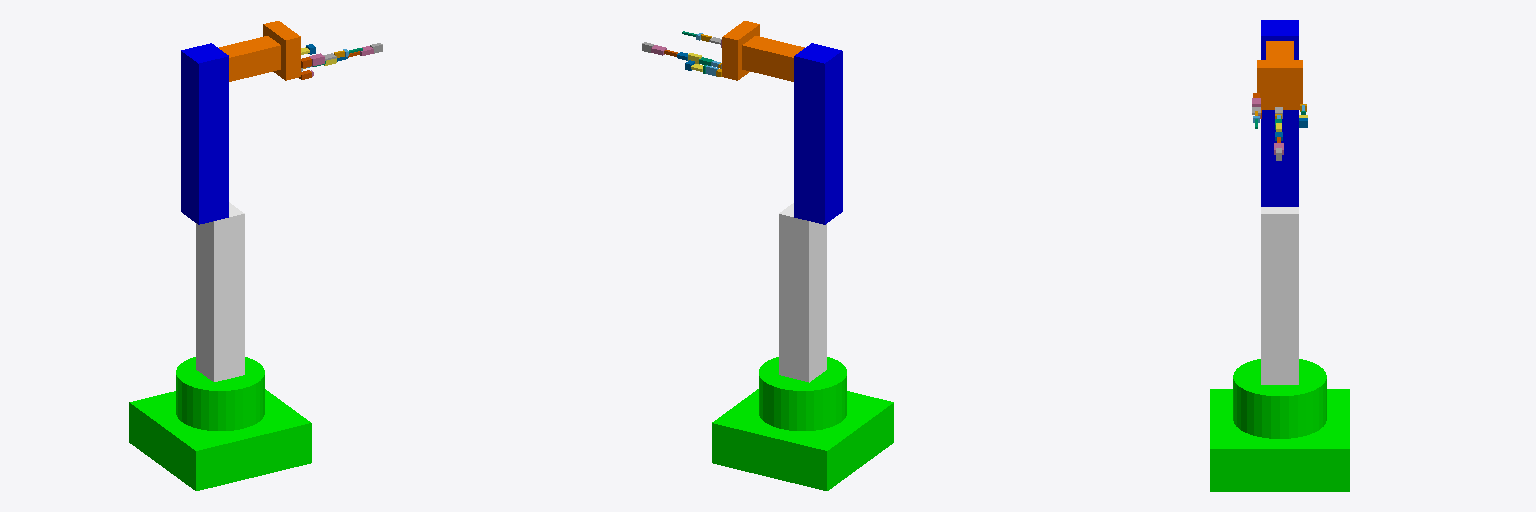
The robot description file, URDF, robot "robot":
<?xml version='1.0' encoding='utf-8'?>
<robot name="robot">
  <link name="base_link">
    <visual>
      <origin xyz="0 0 0.125" rpy="0 0 0" />
      <geometry>
        <box size="0.75 0.75 0.25" />
      </geometry>
      <material name="green" />
    </visual>
    <visual>
      <origin xyz="0 0 0.375" rpy="0 0 0" />
      <geometry>
        <cylinder length="0.25" radius="0.25" />
      </geometry>
      <material name="green">
        <color rgba="0 1 0 1" />
      </material>
    </visual>
    <collision>
      <geometry>
        <box size="0.75 0.75 0.5" />
      </geometry>
    </collision>
    <inertial>
      <mass value="0.5" />
      <inertia ixx="0.034" ixy="0.0" ixz="0.0" iyy="0.034" iyz="0.0" izz="0.034" />
    </inertial>
  </link>
  <link name="support_link">
    <visual>
      <origin xyz="0 0 0.5" rpy="0 0 0" />
      <geometry>
        <box size="0.2 0.2 1" />
      </geometry>
      <material name="white">
        <color rgba="1 1 1 1" />
      </material>
    </visual>
    <collision>
      <geometry>
        <box size="0.2 0.2 1" />
      </geometry>
    </collision>
    <inertial>
      <mass value="0.1" />
      <inertia ixx="0.01" ixy="0.0" ixz="0.0" iyy="0.01" iyz="0.0" izz="0.01" />
    </inertial>
  </link>
  <joint name="support_joint" type="continuous">
    <origin xyz="0 0 0.5" rpy="0 0 0" />
    <parent link="base_link" />
    <child link="support_link" />
    <axis xyz="0 0 1" />
  </joint>
  <link name="arm_link">
    <visual>
      <origin xyz="0 0 0.5" rpy="0 0 0" />
      <geometry>
        <box size="0.2 0.2 1" />
      </geometry>
      <material name="blue">
        <color rgba="0 0 1 1" />
      </material>
    </visual>
    <collision>
      <geometry>
        <box size="0.2 0.2 1" />
      </geometry>
    </collision>
    <inertial>
      <mass value="0.1" />
      <inertia ixx="0.01" ixy="0.0" ixz="0.0" iyy="0.01" iyz="0.0" izz="0.01" />
    </inertial>
  </link>
  <joint name="arm_joint" type="revolute">
    <origin xyz="-0.1 0 1" rpy="0 0 0" />
    <parent link="support_link" />
    <child link="arm_link" />
    <axis xyz="0 1 0" />
    <limit lower="-3.14" upper="3.14" effort="1.0" velocity="1.0" />
  </joint>
  <link name="wrist_link">
    <visual>
      <origin xyz="0 0 0.25" rpy="0 0 0" />
      <geometry>
        <box size="0.15 0.15 0.5" />
      </geometry>
      <material name="orange">
        <color rgba="1 0.5 0 1" />
      </material>
    </visual>
    <collision>
      <geometry>
        <box size="0.15 0.15 0.5" />
      </geometry>
    </collision>
    <inertial>
      <mass value="0.1" />
      <inertia ixx="0.01" ixy="0.0" ixz="0.0" iyy="0.01" iyz="0.0" izz="0.01" />
    </inertial>
  </link>
  <joint name="wrist_joint" type="fixed">
    <origin xyz="0 0 0.9" rpy="0 1.571 0" />
    <parent link="arm_link" />
    <child link="wrist_link" />
  </joint>
  <link name="palm_link">
    <visual>
      <origin xyz="0 0 0.05" rpy="0 0 0" />
      <geometry>
        <box size="0.25 0.25 0.1" />
      </geometry>
      <material name="orange" />
    </visual>
    <collision>
      <geometry>
        <box size="0.25 0.25 0.1" />
      </geometry>
    </collision>
    <inertial>
      <mass value="0.1" />
      <inertia ixx="0.01" ixy="0.0" ixz="0.0" iyy="0.01" iyz="0.0" izz="0.01" />
    </inertial>
  </link>
  <joint name="palm_joint" type="fixed">
    <origin xyz="0 0 0.45" rpy="0 0 0" />
    <parent link="wrist_link" />
    <child link="palm_link" />
  </joint>
  <link name="finger_link_0_0">
    <visual>
      <origin xyz="0 0 0.0345" rpy="0 0 0" />
      <geometry>
        <box size="0.032 0.039 0.069" />
      </geometry>
    </visual>
    <collision>
      <geometry>
        <box size="0.032 0.039 0.069" />
      </geometry>
    </collision>
    <inertial>
      <mass value="0.026" />
      <inertia ixx="0.0" iyy="0.0" izz="0.0" ixy="0" ixz="0" iyz="0" />
    </inertial>
  </link>
  <joint name="finger_joint_palm_link_to_finger_link_0_0" type="revolute">
    <origin xyz="0.125 -0.114 0.1" rpy="0 0 0" />
    <parent link="palm_link" />
    <child link="finger_link_0_0" />
    <axis xyz="0.0 1.0 0.0" />
    <limit lower="-3.142" upper="3.142" effort="10" velocity="10" />
  </joint>
  <link name="finger_link_0_1">
    <visual>
      <origin xyz="0 0 0.007" rpy="0 0 0" />
      <geometry>
        <box size="0.027 0.024 0.014" />
      </geometry>
    </visual>
    <collision>
      <geometry>
        <box size="0.027 0.024 0.014" />
      </geometry>
    </collision>
    <inertial>
      <mass value="0.003" />
      <inertia ixx="0.0" iyy="0.0" izz="0.0" ixy="0" ixz="0" iyz="0" />
    </inertial>
  </link>
  <joint name="finger_joint_finger_link_0_0_to_finger_link_0_1" type="revolute">
    <origin xyz="0.0 0.0 0.069" rpy="0 0 0" />
    <parent link="finger_link_0_0" />
    <child link="finger_link_0_1" />
    <axis xyz="0.0 1.0 0.0" />
    <limit lower="-3.142" upper="3.142" effort="10" velocity="10" />
  </joint>
  <link name="finger_link_1_0">
    <visual>
      <origin xyz="0 0 0.036" rpy="0 0 0" />
      <geometry>
        <box size="0.04 0.041 0.072" />
      </geometry>
    </visual>
    <collision>
      <geometry>
        <box size="0.04 0.041 0.072" />
      </geometry>
    </collision>
    <inertial>
      <mass value="0.035" />
      <inertia ixx="0.0" iyy="0.0" izz="0.0" ixy="0" ixz="0" iyz="0" />
    </inertial>
  </link>
  <joint name="finger_joint_palm_link_to_finger_link_1_0" type="revolute">
    <origin xyz="0.125 -0.006 0.1" rpy="0 0 0" />
    <parent link="palm_link" />
    <child link="finger_link_1_0" />
    <axis xyz="0.0 1.0 0.0" />
    <limit lower="-3.142" upper="3.142" effort="10" velocity="10" />
  </joint>
  <link name="finger_link_1_1">
    <visual>
      <origin xyz="0 0 0.0095" rpy="0 0 0" />
      <geometry>
        <box size="0.02 0.038 0.019" />
      </geometry>
    </visual>
    <collision>
      <geometry>
        <box size="0.02 0.038 0.019" />
      </geometry>
    </collision>
    <inertial>
      <mass value="0.004" />
      <inertia ixx="0.0" iyy="0.0" izz="0.0" ixy="0" ixz="0" iyz="0" />
    </inertial>
  </link>
  <joint name="finger_joint_finger_link_1_0_to_finger_link_1_1" type="revolute">
    <origin xyz="0.0 0.0 0.072" rpy="0 0 0" />
    <parent link="finger_link_1_0" />
    <child link="finger_link_1_1" />
    <axis xyz="1.0 1.0 0.0" />
    <limit lower="-3.142" upper="3.142" effort="10" velocity="10" />
  </joint>
  <link name="finger_link_1_2">
    <visual>
      <origin xyz="0 0 0.025" rpy="0 0 0" />
      <geometry>
        <box size="0.025 0.023 0.05" />
      </geometry>
    </visual>
    <collision>
      <geometry>
        <box size="0.025 0.023 0.05" />
      </geometry>
    </collision>
    <inertial>
      <mass value="0.009" />
      <inertia ixx="0.0" iyy="0.0" izz="0.0" ixy="0" ixz="0" iyz="0" />
    </inertial>
  </link>
  <joint name="finger_joint_finger_link_1_1_to_finger_link_1_2" type="revolute">
    <origin xyz="0.0 0.0 0.019" rpy="0 0 0" />
    <parent link="finger_link_1_1" />
    <child link="finger_link_1_2" />
    <axis xyz="1.0 0.0 0.0" />
    <limit lower="-3.142" upper="3.142" effort="10" velocity="10" />
  </joint>
  <link name="finger_link_1_3">
    <visual>
      <origin xyz="0 0 0.038" rpy="0 0 0" />
      <geometry>
        <box size="0.025 0.038 0.076" />
      </geometry>
    </visual>
    <collision>
      <geometry>
        <box size="0.025 0.038 0.076" />
      </geometry>
    </collision>
    <inertial>
      <mass value="0.022" />
      <inertia ixx="0.0" iyy="0.0" izz="0.0" ixy="0" ixz="0" iyz="0" />
    </inertial>
  </link>
  <joint name="finger_joint_finger_link_1_2_to_finger_link_1_3" type="revolute">
    <origin xyz="0.0 0.0 0.05" rpy="0 0 0" />
    <parent link="finger_link_1_2" />
    <child link="finger_link_1_3" />
    <axis xyz="1.0 1.0 0.0" />
    <limit lower="-3.142" upper="3.142" effort="10" velocity="10" />
  </joint>
  <link name="finger_link_1_4">
    <visual>
      <origin xyz="0 0 0.0375" rpy="0 0 0" />
      <geometry>
        <box size="0.049 0.03 0.075" />
      </geometry>
    </visual>
    <collision>
      <geometry>
        <box size="0.049 0.03 0.075" />
      </geometry>
    </collision>
    <inertial>
      <mass value="0.033" />
      <inertia ixx="0.0" iyy="0.0" izz="0.0" ixy="0" ixz="0" iyz="0" />
    </inertial>
  </link>
  <joint name="finger_joint_finger_link_1_3_to_finger_link_1_4" type="revolute">
    <origin xyz="0.0 0.0 0.076" rpy="0 0 0" />
    <parent link="finger_link_1_3" />
    <child link="finger_link_1_4" />
    <axis xyz="1.0 0.0 0.0" />
    <limit lower="-3.142" upper="3.142" effort="10" velocity="10" />
  </joint>
  <link name="finger_link_1_5">
    <visual>
      <origin xyz="0 0 0.034" rpy="0 0 0" />
      <geometry>
        <box size="0.023 0.043 0.068" />
      </geometry>
    </visual>
    <collision>
      <geometry>
        <box size="0.023 0.043 0.068" />
      </geometry>
    </collision>
    <inertial>
      <mass value="0.02" />
      <inertia ixx="0.0" iyy="0.0" izz="0.0" ixy="0" ixz="0" iyz="0" />
    </inertial>
  </link>
  <joint name="finger_joint_finger_link_1_4_to_finger_link_1_5" type="revolute">
    <origin xyz="0.0 0.0 0.075" rpy="0 0 0" />
    <parent link="finger_link_1_4" />
    <child link="finger_link_1_5" />
    <axis xyz="0.0 1.0 0.0" />
    <limit lower="-3.142" upper="3.142" effort="10" velocity="10" />
  </joint>
  <link name="finger_link_1_6">
    <visual>
      <origin xyz="0 0 0.0435" rpy="0 0 0" />
      <geometry>
        <box size="0.021 0.018 0.087" />
      </geometry>
    </visual>
    <collision>
      <geometry>
        <box size="0.021 0.018 0.087" />
      </geometry>
    </collision>
    <inertial>
      <mass value="0.01" />
      <inertia ixx="0.0" iyy="0.0" izz="0.0" ixy="0" ixz="0" iyz="0" />
    </inertial>
  </link>
  <joint name="finger_joint_finger_link_1_5_to_finger_link_1_6" type="revolute">
    <origin xyz="0.0 0.0 0.068" rpy="0 0 0" />
    <parent link="finger_link_1_5" />
    <child link="finger_link_1_6" />
    <axis xyz="0.0 1.0 0.0" />
    <limit lower="-3.142" upper="3.142" effort="10" velocity="10" />
  </joint>
  <link name="finger_link_1_7">
    <visual>
      <origin xyz="0 0 0.0395" rpy="0 0 0" />
      <geometry>
        <box size="0.029 0.05 0.079" />
      </geometry>
    </visual>
    <collision>
      <geometry>
        <box size="0.029 0.05 0.079" />
      </geometry>
    </collision>
    <inertial>
      <mass value="0.034" />
      <inertia ixx="0.0" iyy="0.0" izz="0.0" ixy="0" ixz="0" iyz="0" />
    </inertial>
  </link>
  <joint name="finger_joint_finger_link_1_6_to_finger_link_1_7" type="revolute">
    <origin xyz="0.0 0.0 0.087" rpy="0 0 0" />
    <parent link="finger_link_1_6" />
    <child link="finger_link_1_7" />
    <axis xyz="1.0 0.0 0.0" />
    <limit lower="-3.142" upper="3.142" effort="10" velocity="10" />
  </joint>
  <link name="finger_link_1_8">
    <visual>
      <origin xyz="0 0 0.032" rpy="0 0 0" />
      <geometry>
        <box size="0.044 0.03 0.064" />
      </geometry>
    </visual>
    <collision>
      <geometry>
        <box size="0.044 0.03 0.064" />
      </geometry>
    </collision>
    <inertial>
      <mass value="0.025" />
      <inertia ixx="0.0" iyy="0.0" izz="0.0" ixy="0" ixz="0" iyz="0" />
    </inertial>
  </link>
  <joint name="finger_joint_finger_link_1_7_to_finger_link_1_8" type="revolute">
    <origin xyz="0.0 0.0 0.079" rpy="0 0 0" />
    <parent link="finger_link_1_7" />
    <child link="finger_link_1_8" />
    <axis xyz="1.0 0.0 0.0" />
    <limit lower="-3.142" upper="3.142" effort="10" velocity="10" />
  </joint>
  <link name="finger_link_2_0">
    <visual>
      <origin xyz="0 0 0.015" rpy="0 0 0" />
      <geometry>
        <box size="0.032 0.037 0.03" />
      </geometry>
    </visual>
    <collision>
      <geometry>
        <box size="0.032 0.037 0.03" />
      </geometry>
    </collision>
    <inertial>
      <mass value="0.011" />
      <inertia ixx="0.0" iyy="0.0" izz="0.0" ixy="0" ixz="0" iyz="0" />
    </inertial>
  </link>
  <joint name="finger_joint_palm_link_to_finger_link_2_0" type="revolute">
    <origin xyz="0.103 0.125 0.1" rpy="0 0 0" />
    <parent link="palm_link" />
    <child link="finger_link_2_0" />
    <axis xyz="-1.0 0.0 0.0" />
    <limit lower="-3.142" upper="3.142" effort="10" velocity="10" />
  </joint>
  <link name="finger_link_2_1">
    <visual>
      <origin xyz="0 0 0.037" rpy="0 0 0" />
      <geometry>
        <box size="0.047 0.017 0.074" />
      </geometry>
    </visual>
    <collision>
      <geometry>
        <box size="0.047 0.017 0.074" />
      </geometry>
    </collision>
    <inertial>
      <mass value="0.018" />
      <inertia ixx="0.0" iyy="0.0" izz="0.0" ixy="0" ixz="0" iyz="0" />
    </inertial>
  </link>
  <joint name="finger_joint_finger_link_2_0_to_finger_link_2_1" type="revolute">
    <origin xyz="0.0 0.0 0.03" rpy="0 0 0" />
    <parent link="finger_link_2_0" />
    <child link="finger_link_2_1" />
    <axis xyz="1.0 0.0 0.0" />
    <limit lower="-3.142" upper="3.142" effort="10" velocity="10" />
  </joint>
  <link name="finger_link_2_2">
    <visual>
      <origin xyz="0 0 0.0075" rpy="0 0 0" />
      <geometry>
        <box size="0.046 0.023 0.015" />
      </geometry>
    </visual>
    <collision>
      <geometry>
        <box size="0.046 0.023 0.015" />
      </geometry>
    </collision>
    <inertial>
      <mass value="0.005" />
      <inertia ixx="0.0" iyy="0.0" izz="0.0" ixy="0" ixz="0" iyz="0" />
    </inertial>
  </link>
  <joint name="finger_joint_finger_link_2_1_to_finger_link_2_2" type="revolute">
    <origin xyz="0.0 0.0 0.074" rpy="0 0 0" />
    <parent link="finger_link_2_1" />
    <child link="finger_link_2_2" />
    <axis xyz="0.0 1.0 0.0" />
    <limit lower="-3.142" upper="3.142" effort="10" velocity="10" />
  </joint>
  <link name="finger_link_2_3">
    <visual>
      <origin xyz="0 0 0.036" rpy="0 0 0" />
      <geometry>
        <box size="0.016 0.048 0.072" />
      </geometry>
    </visual>
    <collision>
      <geometry>
        <box size="0.016 0.048 0.072" />
      </geometry>
    </collision>
    <inertial>
      <mass value="0.017" />
      <inertia ixx="0.0" iyy="0.0" izz="0.0" ixy="0" ixz="0" iyz="0" />
    </inertial>
  </link>
  <joint name="finger_joint_finger_link_2_2_to_finger_link_2_3" type="revolute">
    <origin xyz="0.0 0.0 0.015" rpy="0 0 0" />
    <parent link="finger_link_2_2" />
    <child link="finger_link_2_3" />
    <axis xyz="0.0 1.0 0.0" />
    <limit lower="-3.142" upper="3.142" effort="10" velocity="10" />
  </joint>
  <link name="finger_link_2_4">
    <visual>
      <origin xyz="0 0 0.0185" rpy="0 0 0" />
      <geometry>
        <box size="0.04 0.049 0.037" />
      </geometry>
    </visual>
    <collision>
      <geometry>
        <box size="0.04 0.049 0.037" />
      </geometry>
    </collision>
    <inertial>
      <mass value="0.022" />
      <inertia ixx="0.0" iyy="0.0" izz="0.0" ixy="0" ixz="0" iyz="0" />
    </inertial>
  </link>
  <joint name="finger_joint_finger_link_2_3_to_finger_link_2_4" type="revolute">
    <origin xyz="0.0 0.0 0.072" rpy="0 0 0" />
    <parent link="finger_link_2_3" />
    <child link="finger_link_2_4" />
    <axis xyz="1.0 0.0 0.0" />
    <limit lower="-3.142" upper="3.142" effort="10" velocity="10" />
  </joint>
  <link name="finger_link_3_0">
    <visual>
      <origin xyz="0 0 0.031" rpy="0 0 0" />
      <geometry>
        <box size="0.043 0.037 0.062" />
      </geometry>
    </visual>
    <collision>
      <geometry>
        <box size="0.043 0.037 0.062" />
      </geometry>
    </collision>
    <inertial>
      <mass value="0.03" />
      <inertia ixx="0.0" iyy="0.0" izz="0.0" ixy="0" ixz="0" iyz="0" />
    </inertial>
  </link>
  <joint name="finger_joint_palm_link_to_finger_link_3_0" type="revolute">
    <origin xyz="0.043 -0.125 0.1" rpy="0 0 0" />
    <parent link="palm_link" />
    <child link="finger_link_3_0" />
    <axis xyz="1.0 0.0 0.0" />
    <limit lower="-3.142" upper="3.142" effort="10" velocity="10" />
  </joint>
  <link name="finger_link_3_1">
    <visual>
      <origin xyz="0 0 0.0395" rpy="0 0 0" />
      <geometry>
        <box size="0.045 0.046 0.079" />
      </geometry>
    </visual>
    <collision>
      <geometry>
        <box size="0.045 0.046 0.079" />
      </geometry>
    </collision>
    <inertial>
      <mass value="0.049" />
      <inertia ixx="0.0" iyy="0.0" izz="0.0" ixy="0" ixz="0" iyz="0" />
    </inertial>
  </link>
  <joint name="finger_joint_finger_link_3_0_to_finger_link_3_1" type="revolute">
    <origin xyz="0.0 0.0 0.062" rpy="0 0 0" />
    <parent link="finger_link_3_0" />
    <child link="finger_link_3_1" />
    <axis xyz="1.0 0.0 0.0" />
    <limit lower="-3.142" upper="3.142" effort="10" velocity="10" />
  </joint>
  <link name="finger_link_3_2">
    <visual>
      <origin xyz="0 0 0.038" rpy="0 0 0" />
      <geometry>
        <box size="0.012 0.048 0.076" />
      </geometry>
    </visual>
    <collision>
      <geometry>
        <box size="0.012 0.048 0.076" />
      </geometry>
    </collision>
    <inertial>
      <mass value="0.013" />
      <inertia ixx="0.0" iyy="0.0" izz="0.0" ixy="0" ixz="0" iyz="0" />
    </inertial>
  </link>
  <joint name="finger_joint_finger_link_3_1_to_finger_link_3_2" type="revolute">
    <origin xyz="0.0 0.0 0.079" rpy="0 0 0" />
    <parent link="finger_link_3_1" />
    <child link="finger_link_3_2" />
    <axis xyz="0.0 1.0 0.0" />
    <limit lower="-3.142" upper="3.142" effort="10" velocity="10" />
  </joint>
  <link name="finger_link_3_3">
    <visual>
      <origin xyz="0 0 0.032" rpy="0 0 0" />
      <geometry>
        <box size="0.031 0.017 0.064" />
      </geometry>
    </visual>
    <collision>
      <geometry>
        <box size="0.031 0.017 0.064" />
      </geometry>
    </collision>
    <inertial>
      <mass value="0.01" />
      <inertia ixx="0.0" iyy="0.0" izz="0.0" ixy="0" ixz="0" iyz="0" />
    </inertial>
  </link>
  <joint name="finger_joint_finger_link_3_2_to_finger_link_3_3" type="revolute">
    <origin xyz="0.0 0.0 0.076" rpy="0 0 0" />
    <parent link="finger_link_3_2" />
    <child link="finger_link_3_3" />
    <axis xyz="0.0 1.0 0.0" />
    <limit lower="-3.142" upper="3.142" effort="10" velocity="10" />
  </joint>
  <link name="finger_link_3_4">
    <visual>
      <origin xyz="0 0 0.0105" rpy="0 0 0" />
      <geometry>
        <box size="0.029 0.04 0.021" />
      </geometry>
    </visual>
    <collision>
      <geometry>
        <box size="0.029 0.04 0.021" />
      </geometry>
    </collision>
    <inertial>
      <mass value="0.007" />
      <inertia ixx="0.0" iyy="0.0" izz="0.0" ixy="0" ixz="0" iyz="0" />
    </inertial>
  </link>
  <joint name="finger_joint_finger_link_3_3_to_finger_link_3_4" type="revolute">
    <origin xyz="0.0 0.0 0.064" rpy="0 0 0" />
    <parent link="finger_link_3_3" />
    <child link="finger_link_3_4" />
    <axis xyz="0.0 1.0 0.0" />
    <limit lower="-3.142" upper="3.142" effort="10" velocity="10" />
  </joint>
  <link name="finger_link_3_5">
    <visual>
      <origin xyz="0 0 0.0485" rpy="0 0 0" />
      <geometry>
        <box size="0.011 0.017 0.097" />
      </geometry>
    </visual>
    <collision>
      <geometry>
        <box size="0.011 0.017 0.097" />
      </geometry>
    </collision>
    <inertial>
      <mass value="0.005" />
      <inertia ixx="0.0" iyy="0.0" izz="0.0" ixy="0" ixz="0" iyz="0" />
    </inertial>
  </link>
  <joint name="finger_joint_finger_link_3_4_to_finger_link_3_5" type="revolute">
    <origin xyz="0.0 0.0 0.021" rpy="0 0 0" />
    <parent link="finger_link_3_4" />
    <child link="finger_link_3_5" />
    <axis xyz="1.0 1.0 0.0" />
    <limit lower="-3.142" upper="3.142" effort="10" velocity="10" />
  </joint>
</robot>

--- What the picture shows (computed from the rendered views, not written in the file) ---
The picture shows the robot from 3 angles, left to right: view 1: azimuth 30°, elevation 25°; view 2: azimuth 150°, elevation 25°; view 3: azimuth 270°, elevation 25°; orthographic projection.
Robot: robot — 27 links, 26 joints (23 revolute, 1 continuous, 2 fixed); root link base_link; default pose: all joints at 0.
Links seen in each view (by area): view 1: base_link, arm_link, support_link, wrist_link, palm_link; view 2: base_link, arm_link, support_link, wrist_link, palm_link; view 3: base_link, support_link, arm_link, palm_link, wrist_link.
Boxes of the visible links, box(x1,y1,x2,y2) form: base_link: box(129, 357, 311, 490); arm_link: box(181, 43, 228, 224); support_link: box(196, 202, 244, 381); wrist_link: box(219, 36, 280, 81); palm_link: box(263, 21, 300, 80); base_link: box(712, 357, 893, 490); arm_link: box(794, 43, 842, 224); support_link: box(779, 203, 826, 382); wrist_link: box(742, 36, 804, 81); palm_link: box(722, 21, 759, 80); base_link: box(1210, 359, 1349, 491); support_link: box(1261, 207, 1298, 384); arm_link: box(1261, 20, 1298, 206); palm_link: box(1257, 60, 1302, 109); wrist_link: box(1266, 41, 1293, 59).
Size in the robot's own frame: 1.42 by 0.75 by 2.52 metres.
Geometry: primitives only (box / cylinder / sphere), no mesh files.